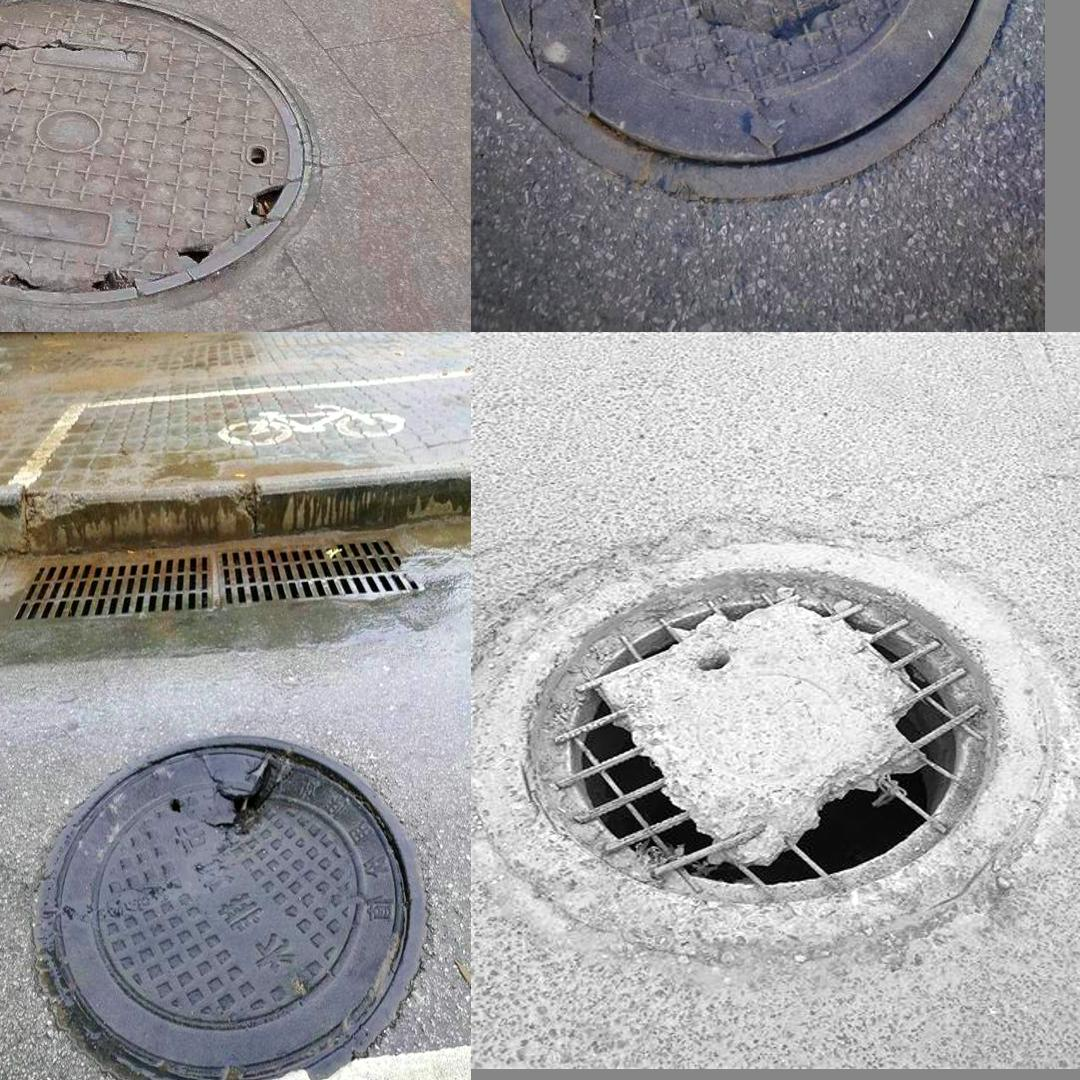broke: (496, 532, 1030, 939), (25, 716, 437, 1080), (484, 0, 1016, 200), (0, 0, 312, 306)
